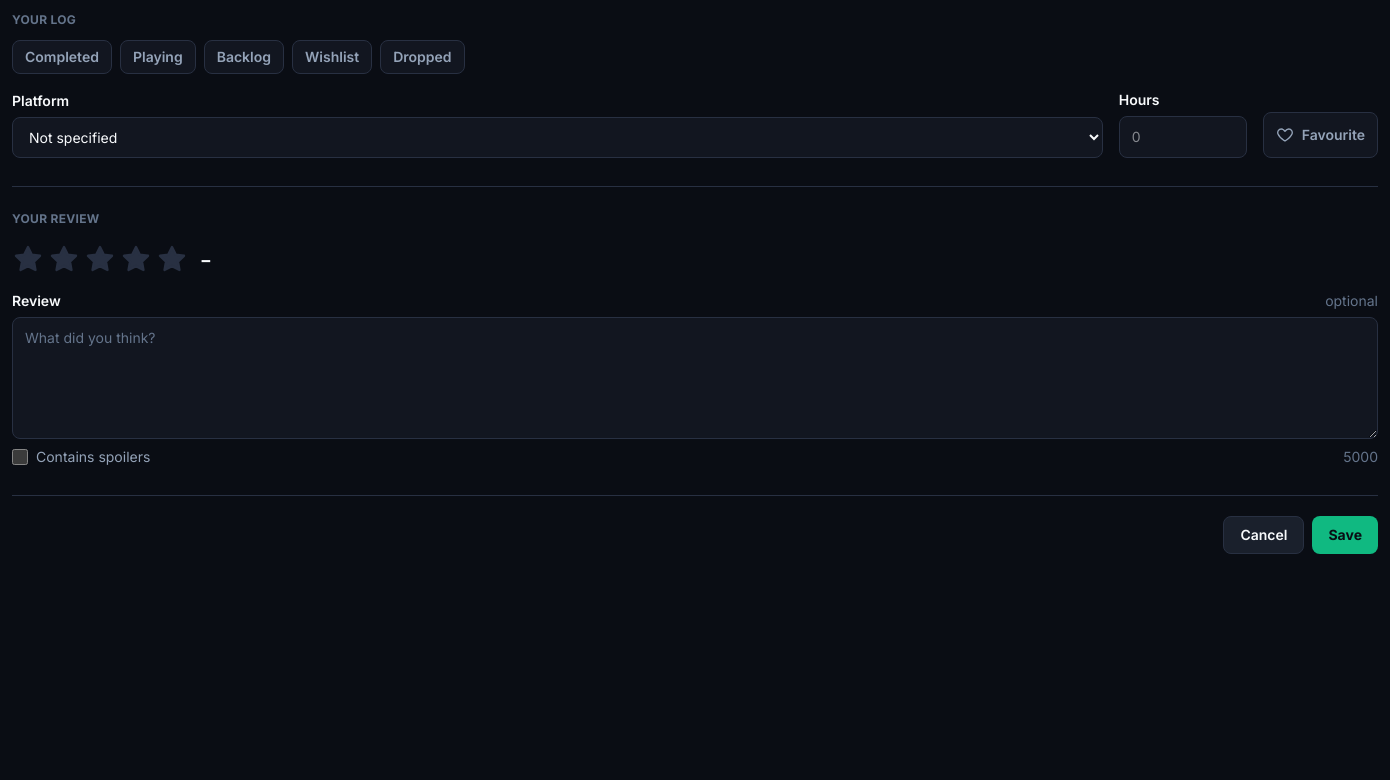
Scenario: LogGameForm › only accepts whole hours
The width and height of the screenshot is (1390, 780).
Click the radio button labelled "Playing". click: (158, 57)
box: [120, 40, 196, 74]
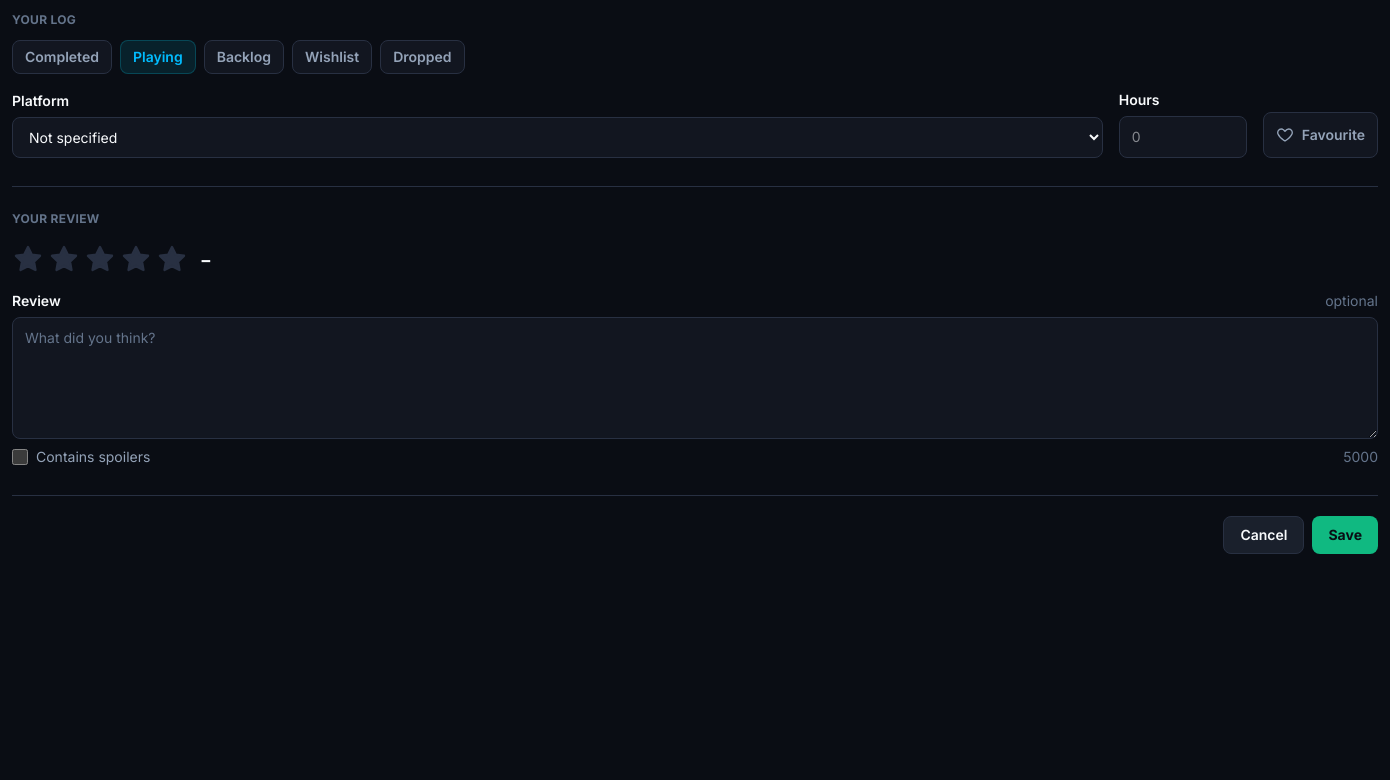
Type "ten" into the field with test id "hours". click: (1183, 137)
box: [1119, 116, 1247, 158]
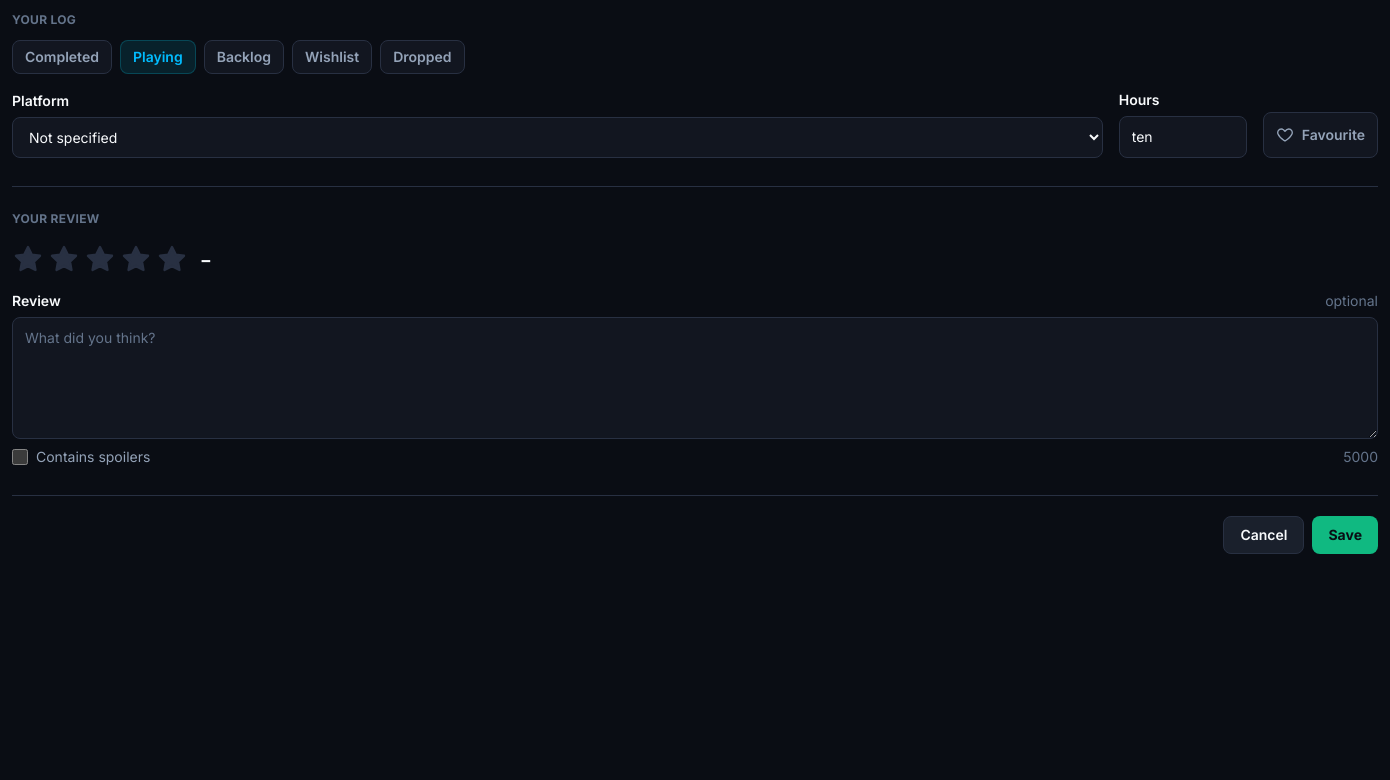
Submit the form
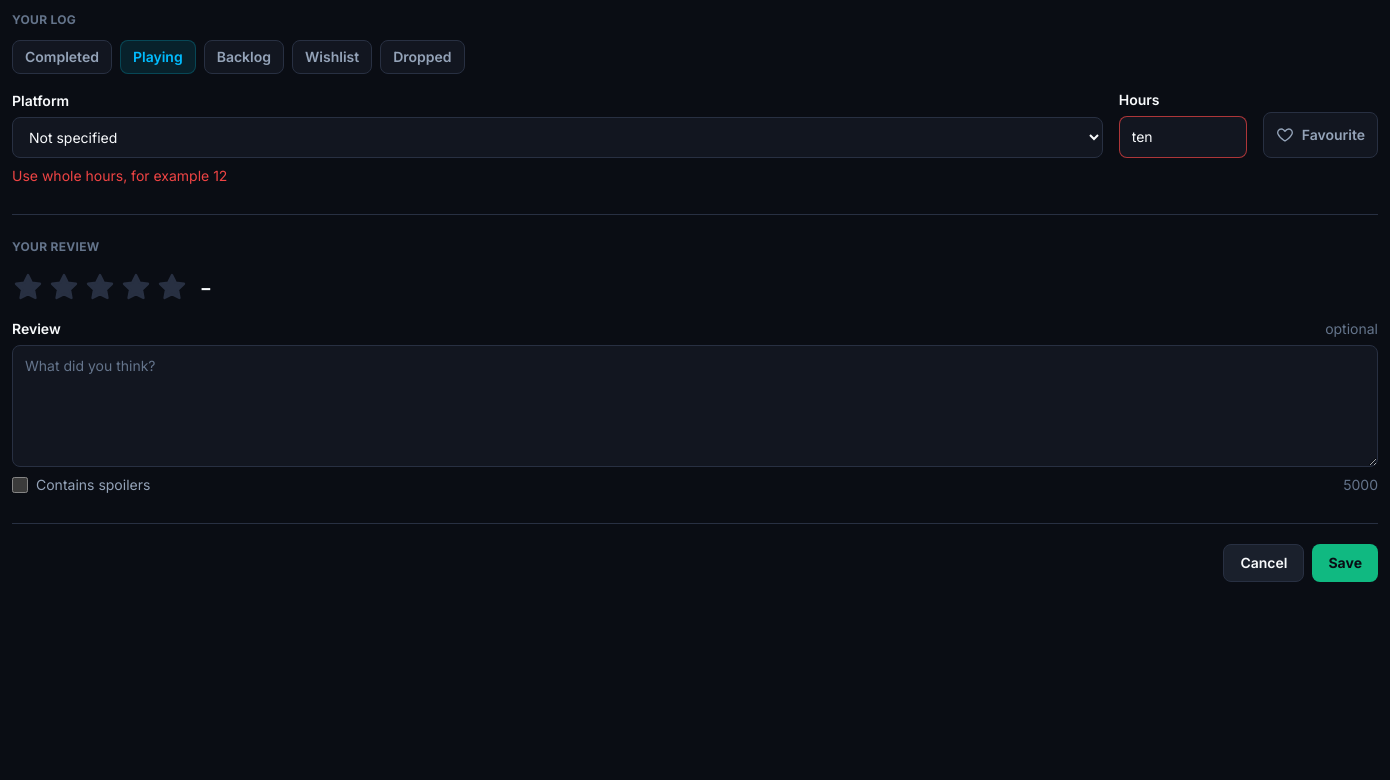
Result: the form shows "Use whole hours, for example 12" at [12, 167, 227, 184]
